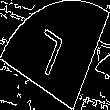L_SW: (36, 25, 74, 85)
